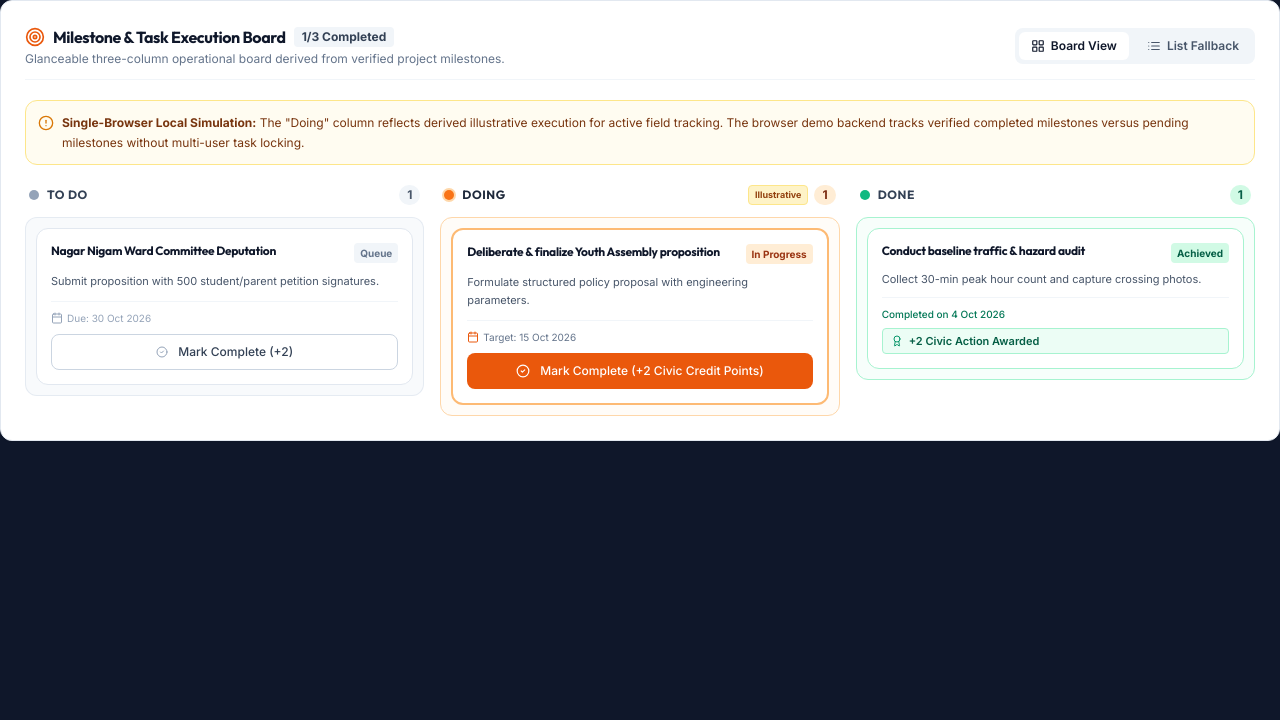
Change Plan v2 Section 11: Projects and Workspace Team Boards › ProjectBoard: Three-Column Kanban Board and List Fallback › toggles to accessible list fallback view on mobile or upon selection
# Click list fallback toggle
Click the button with test id "toggle-list-view". click: {"x": 1193, "y": 46}
box: [1135, 32, 1251, 60]
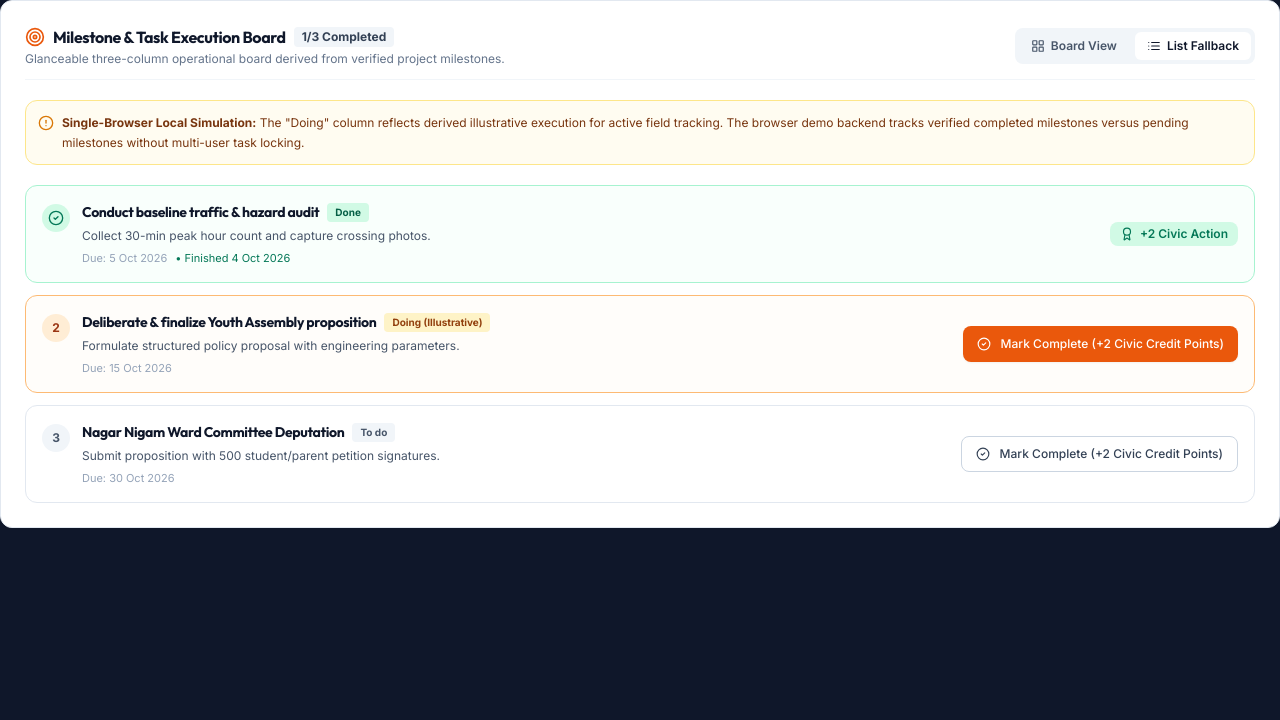
expect the text "To do" is shown: met, box [352, 422, 395, 442]
expect the element with test id "milestones-list-fallback" is shown: met, box [25, 185, 1255, 503]
expect the text "Doing (Illustrative)" is shown: met, box [384, 312, 490, 332]
# Can switch back to Kanban board
Click the button with test id "toggle-board-view". click: {"x": 1074, "y": 46}
box: [1019, 32, 1129, 60]
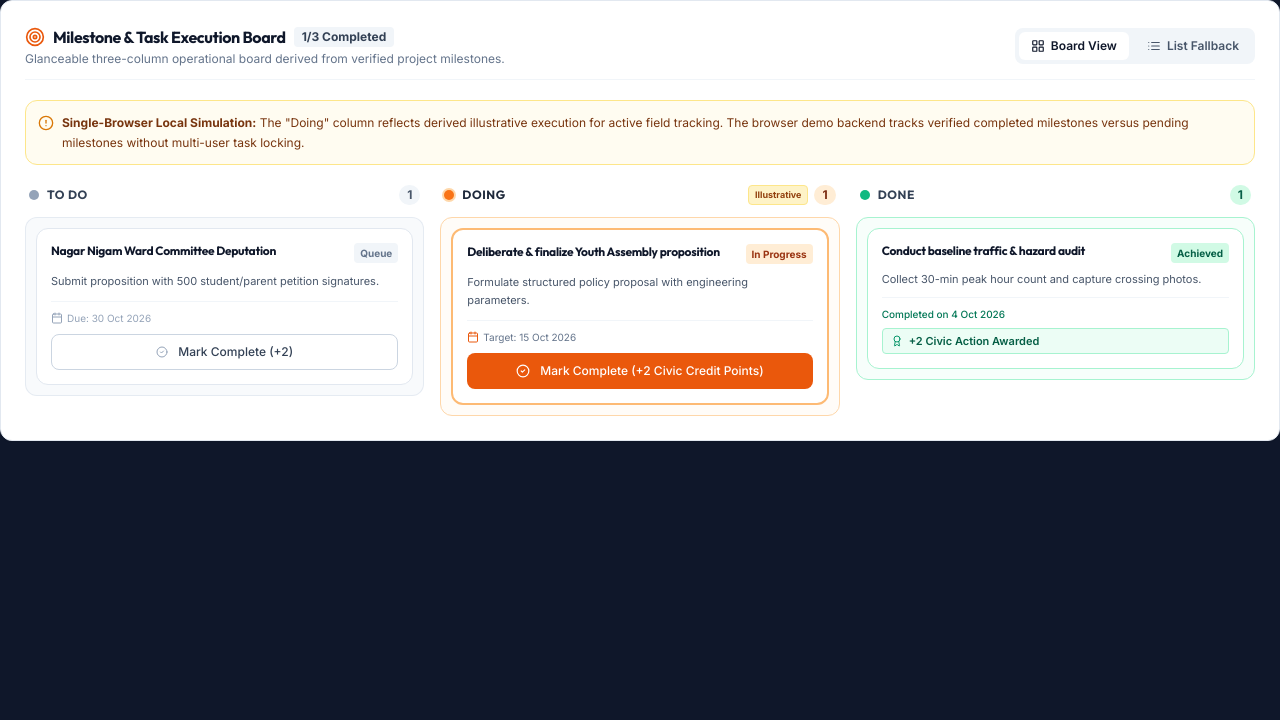
expect the element with test id "kanban-columns-container" is shown: met, box [25, 185, 1255, 416]
